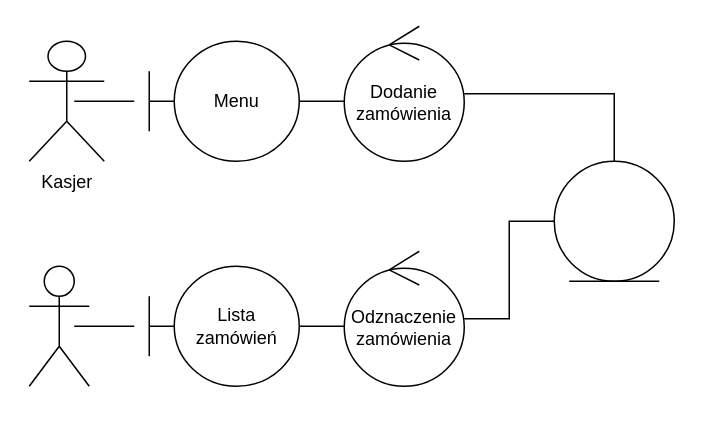
Some shapes in this 701 by 444 pixel diagram are drawn without their labels. Here are the shapes that lost their labels. From the top down, the centre of each, then its label:
the point at 613,220: Zamówienie
the point at 58,325: Kucharz
